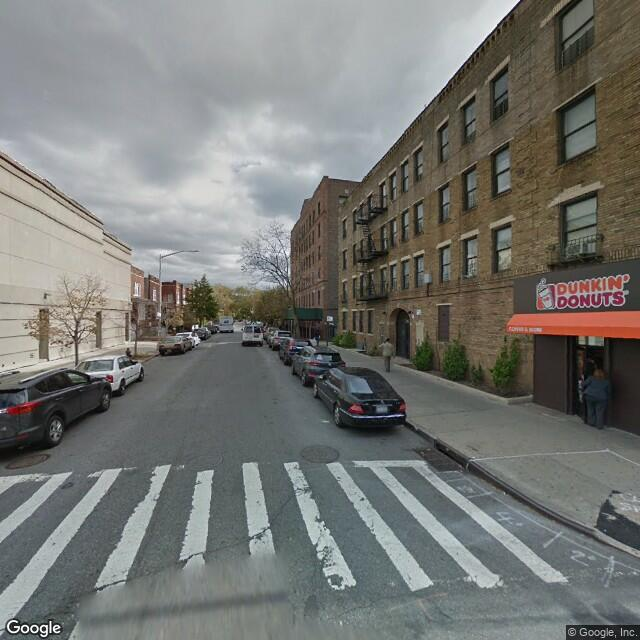litter: (322, 418, 330, 423)
